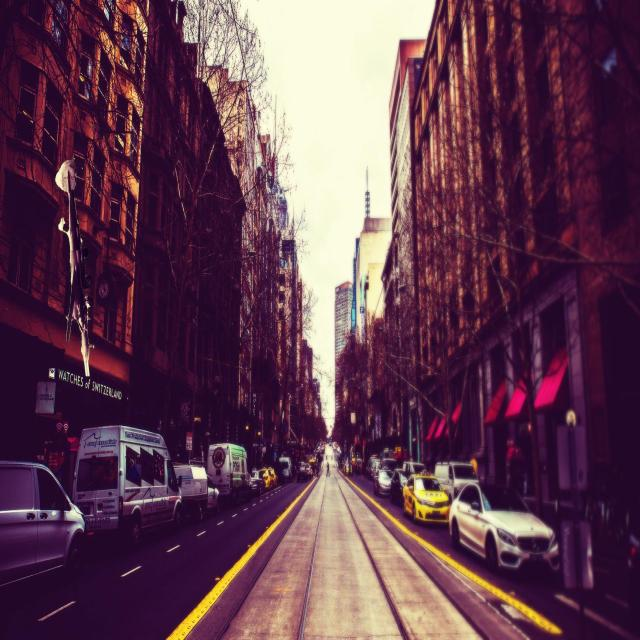airplane: (58, 168, 95, 379)
